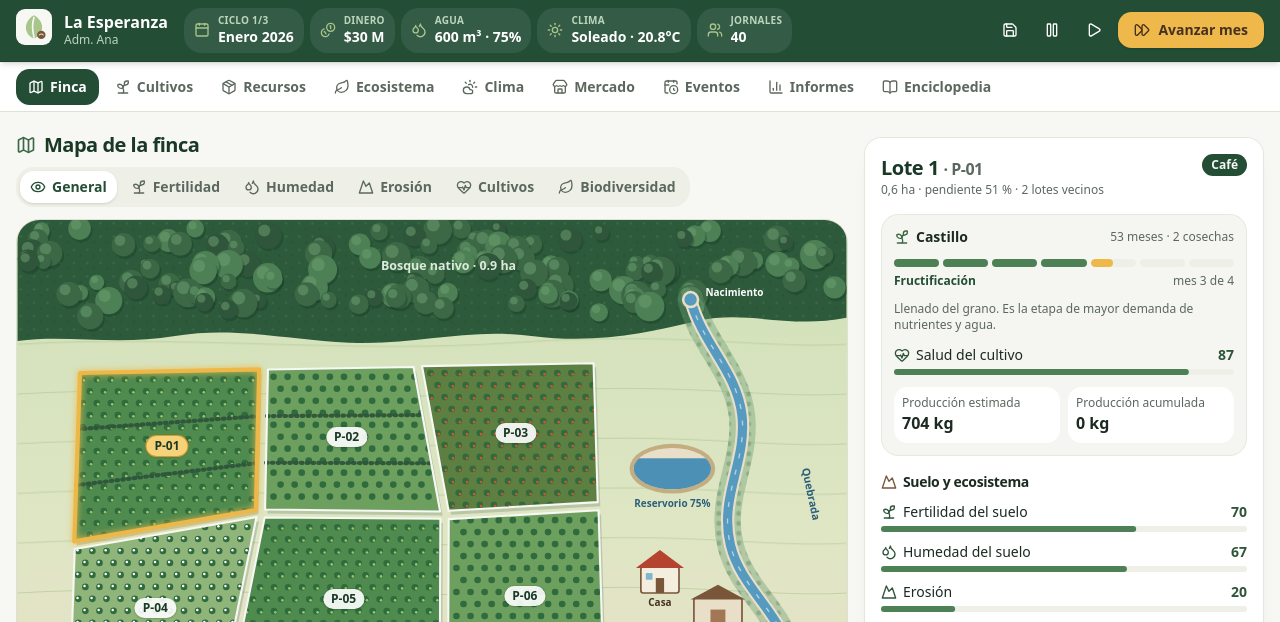
Test: Pantalla principal del juego › la navegación entre secciones preserva la partida
The width and height of the screenshot is (1280, 622).
Expected: the button with test id "advance-month" is shown, [1118,12,1264,48]
Click the link "Mercado" at [593, 86], box [552,76,635,95]
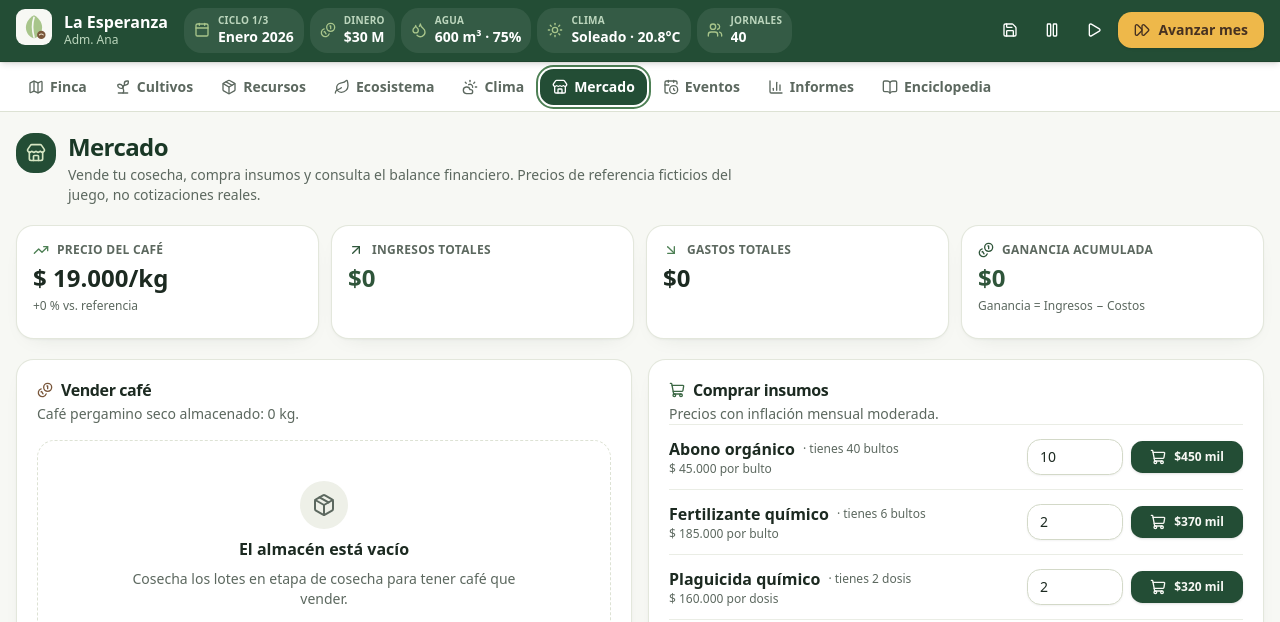
Expected: the heading "Mercado" is shown, [68,130,168,162]
Click the link "Recursos" at [264, 86], box [221,76,306,95]
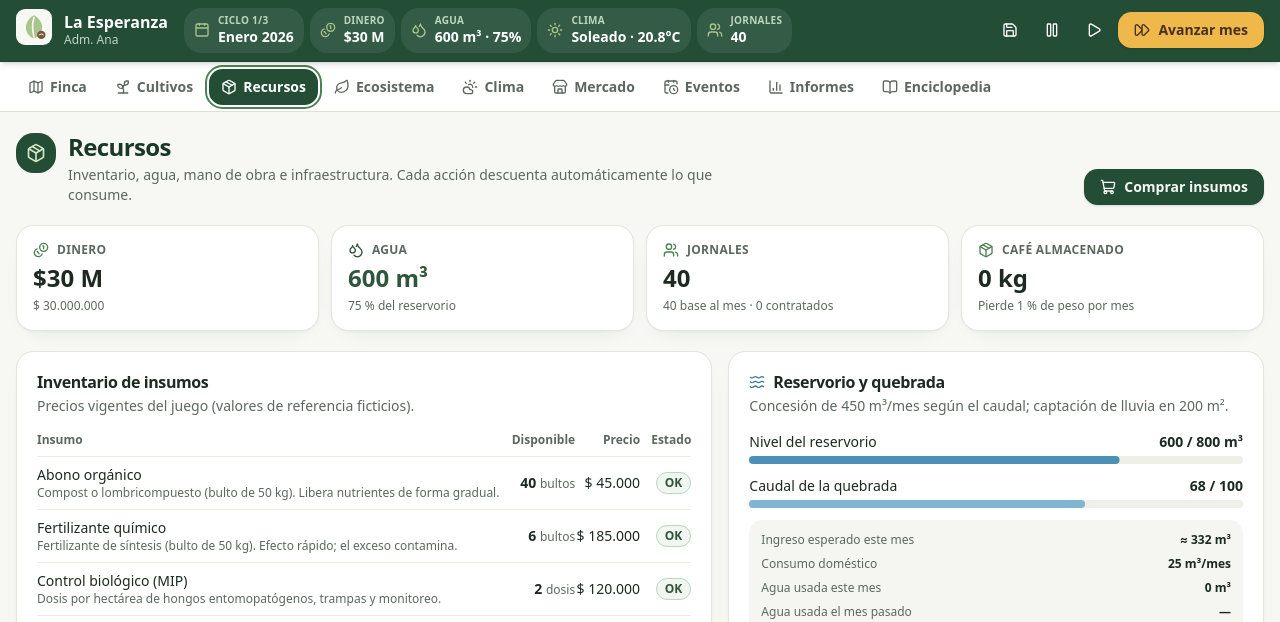
Expected: the heading "Recursos" is shown, [68,130,171,162]
